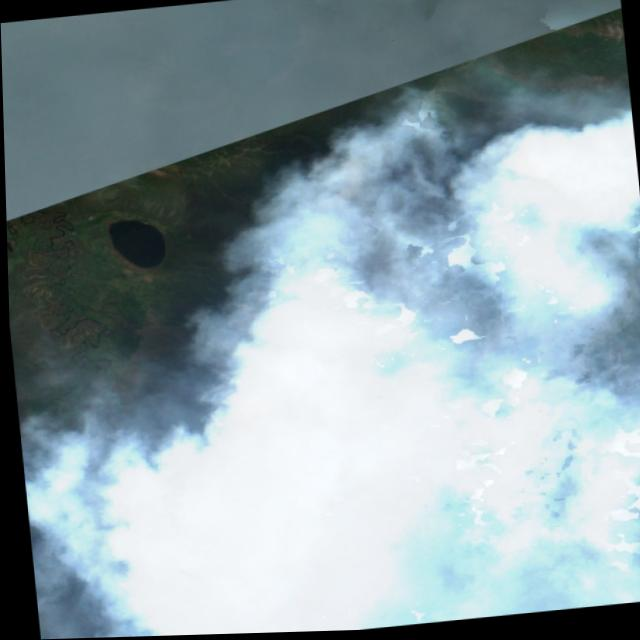fire: (175, 130, 583, 461)
